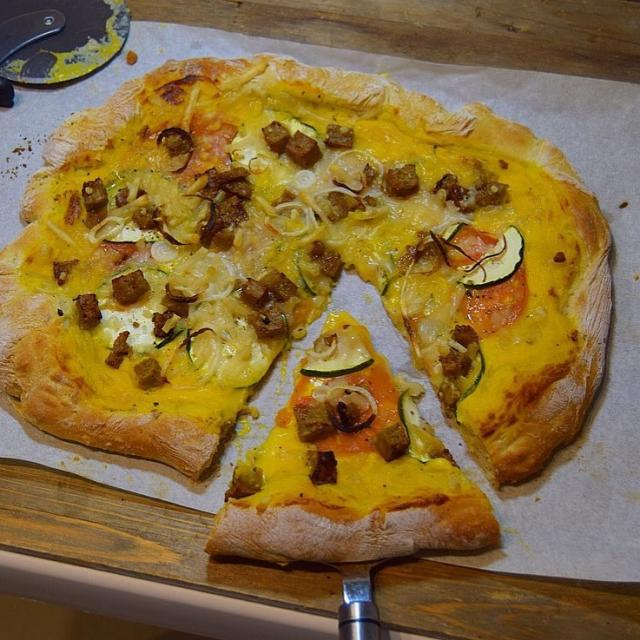pizza: (0, 55, 611, 563)
tomatoes: (281, 349, 410, 461), (437, 216, 532, 342), (152, 110, 238, 182)
